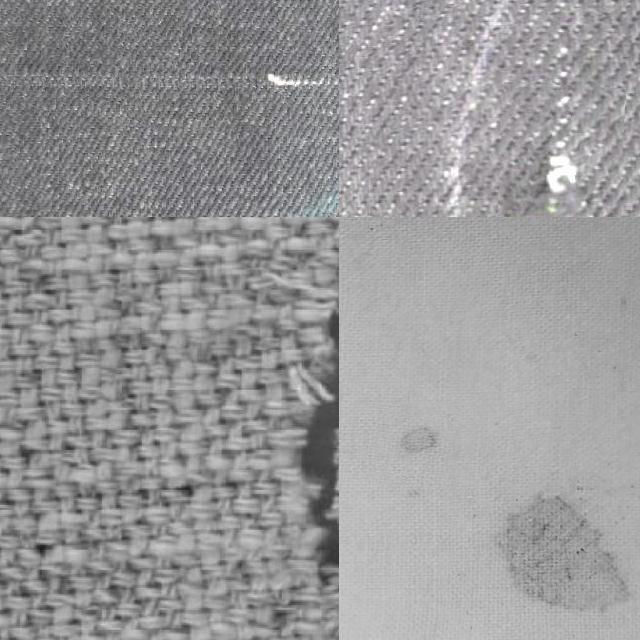Hole: (478, 471, 640, 639), (374, 404, 458, 488)
Thread_other: (497, 83, 623, 217)
seam: (268, 254, 339, 608), (127, 217, 174, 249)
